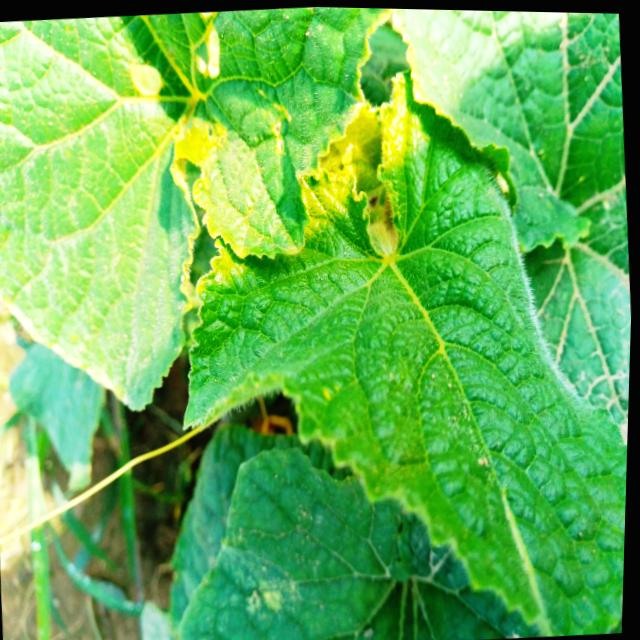Fresh-Leaf: (182, 73, 627, 635)
